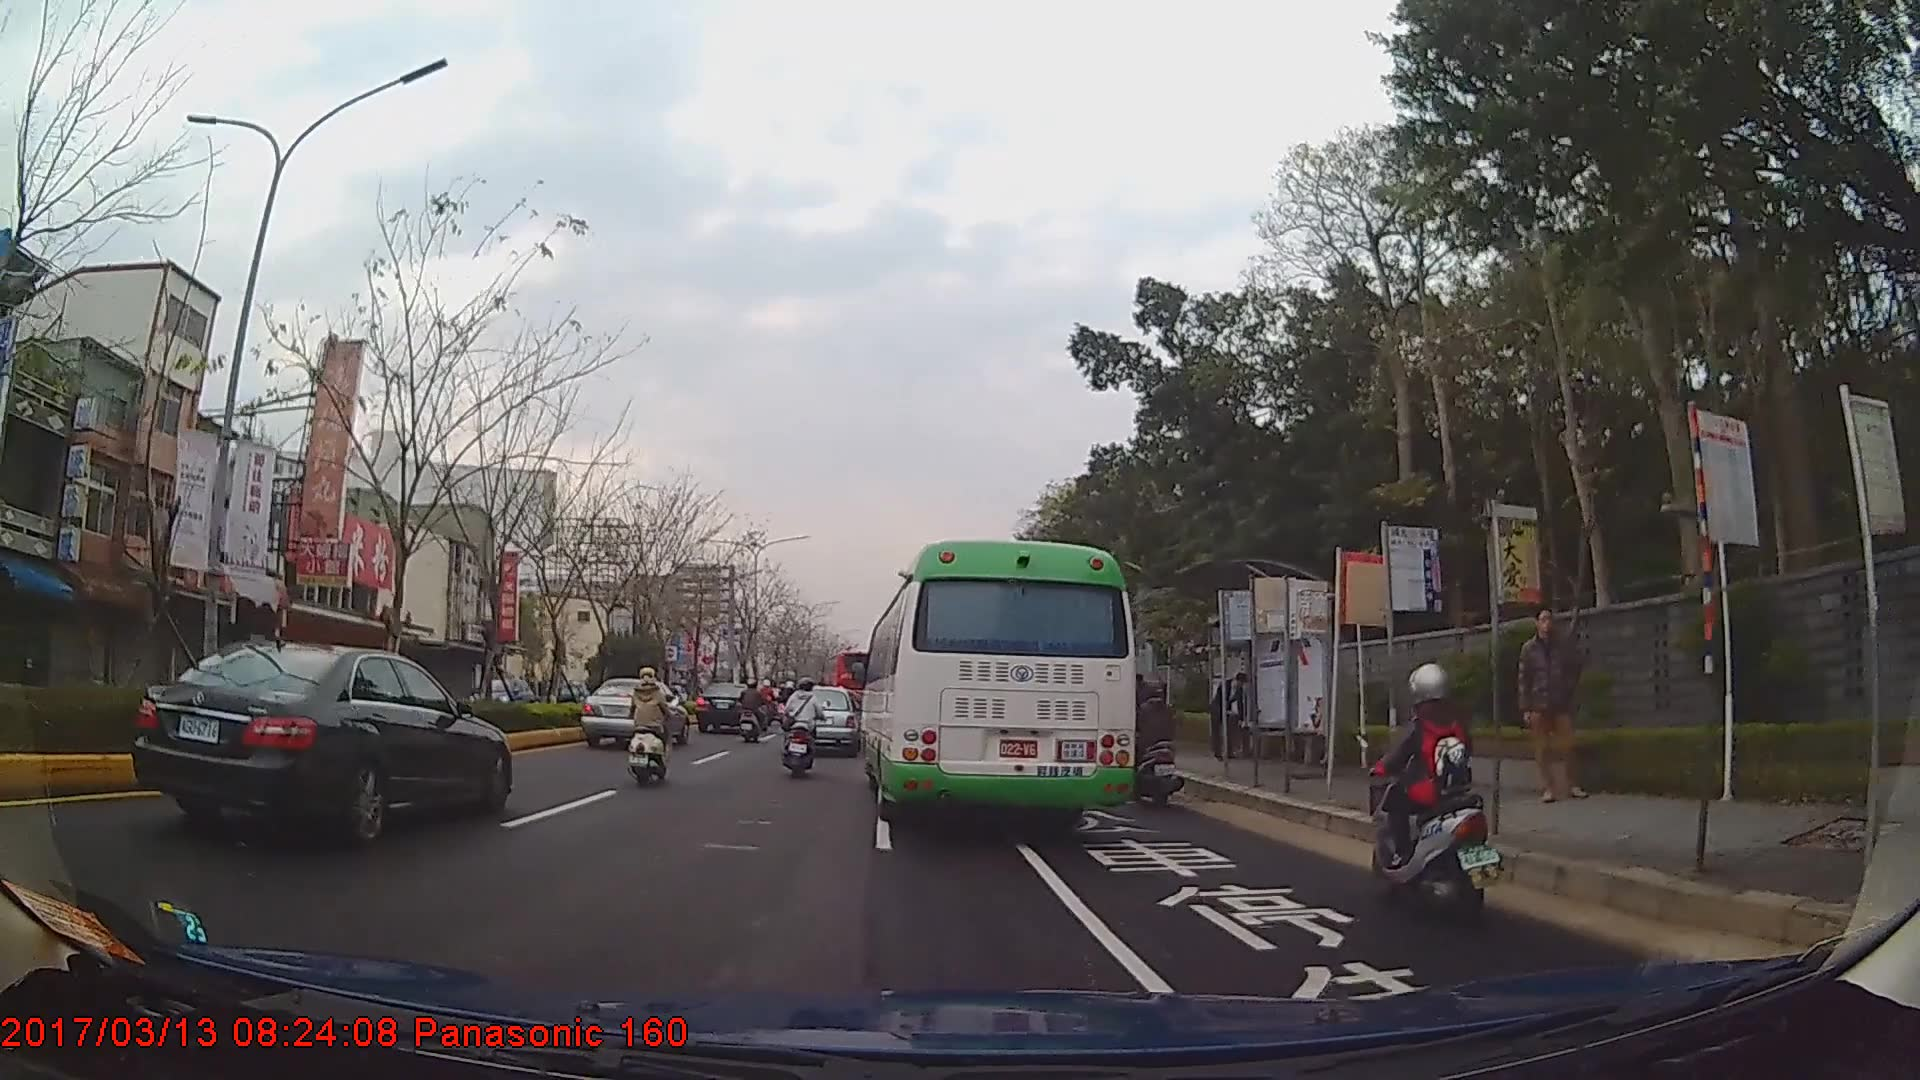pedestrian: (1514, 605, 1589, 805), (1205, 671, 1251, 761)
rider: (1364, 659, 1504, 922), (1131, 679, 1191, 807), (627, 666, 675, 783), (784, 682, 829, 778), (739, 678, 769, 743), (781, 681, 802, 722)
vehicle: (128, 638, 511, 851), (859, 539, 1136, 830), (582, 676, 691, 747), (788, 685, 861, 758), (696, 680, 764, 735), (462, 671, 536, 720)
